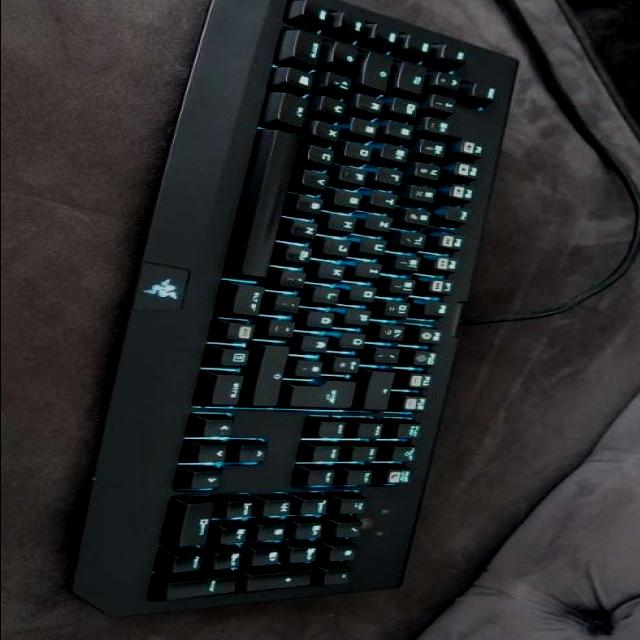0: (385, 300, 415, 316)
1: (431, 94, 459, 112)
2: (426, 116, 454, 134)
3: (421, 138, 449, 156)
4: (418, 161, 446, 179)
5: (413, 183, 439, 201)
6: (405, 206, 436, 224)
7: (402, 230, 430, 248)
8: (396, 252, 424, 270)
9: (392, 275, 420, 293)
a: (358, 94, 386, 115)
accent: (376, 346, 404, 362)
ae: (303, 333, 333, 351)
alt-left: (276, 89, 312, 127)
altgr-right: (228, 280, 268, 316)
b: (298, 192, 329, 214)
c: (310, 142, 340, 164)
caret: (436, 71, 464, 89)
comma: (281, 267, 311, 287)
d: (348, 139, 378, 159)
del: (367, 369, 398, 409)
e: (385, 142, 415, 162)
enter: (290, 378, 360, 407)
f: (342, 163, 370, 182)
g: (338, 188, 366, 207)
h: (331, 212, 361, 231)
hash: (297, 358, 328, 376)
i: (358, 259, 386, 277)
j: (326, 236, 354, 255)
k: (320, 260, 350, 279)
keyboard: (51, 0, 519, 630)
l: (315, 285, 345, 303)
less: (327, 69, 357, 92)
m: (285, 241, 317, 263)
minus: (270, 318, 301, 337)
n: (292, 217, 322, 238)
o: (353, 282, 383, 301)
oe: (309, 309, 340, 327)
p: (346, 306, 377, 324)
plus: (335, 354, 367, 372)
point: (278, 293, 306, 311)
q: (396, 96, 424, 117)
r: (380, 165, 408, 184)
s: (354, 116, 382, 137)
shift-left: (334, 38, 366, 69)
shift-lock: (365, 50, 397, 89)
shift-right: (255, 343, 293, 405)
space: (231, 127, 305, 277)
ss: (380, 322, 410, 340)
strg-left: (281, 26, 327, 65)
strg-right: (209, 371, 249, 406)
t: (375, 189, 401, 207)
tab: (401, 60, 432, 94)
u: (362, 235, 392, 254)
ue: (343, 330, 371, 348)
v: (305, 167, 335, 189)
w: (391, 119, 419, 139)
x: (316, 119, 344, 140)
y: (322, 94, 352, 116)
z: (369, 211, 397, 230)
